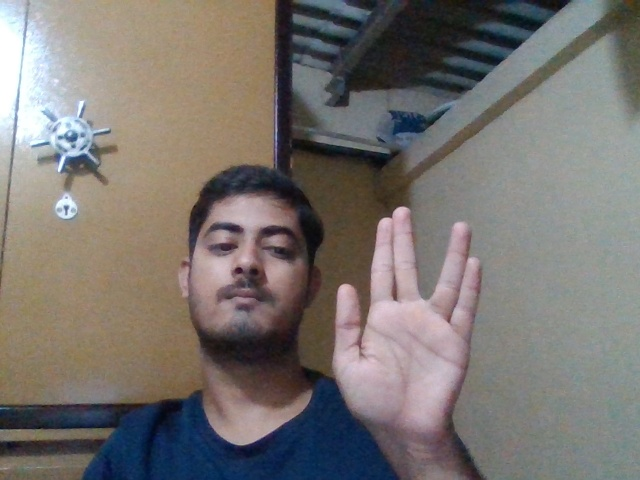LiveLong: (331, 206, 482, 434)
